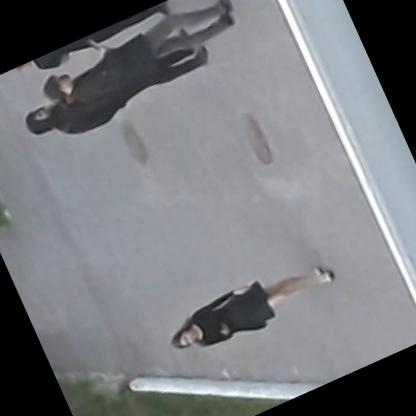Human Body: (9, 16, 220, 164), (26, 0, 252, 122), (156, 242, 350, 376)
